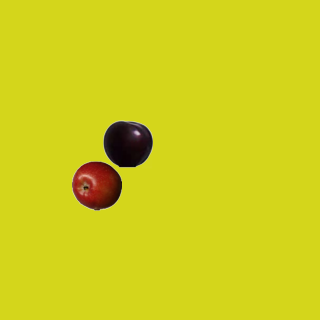Apple Braeburn: (71, 160, 121, 210)
Cherry Wax Black: (102, 118, 152, 168)
